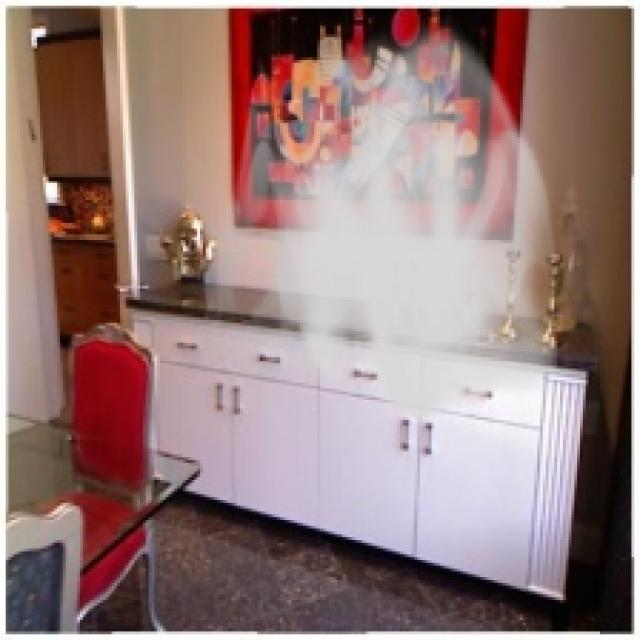Smoke: (200, 14, 569, 426)
